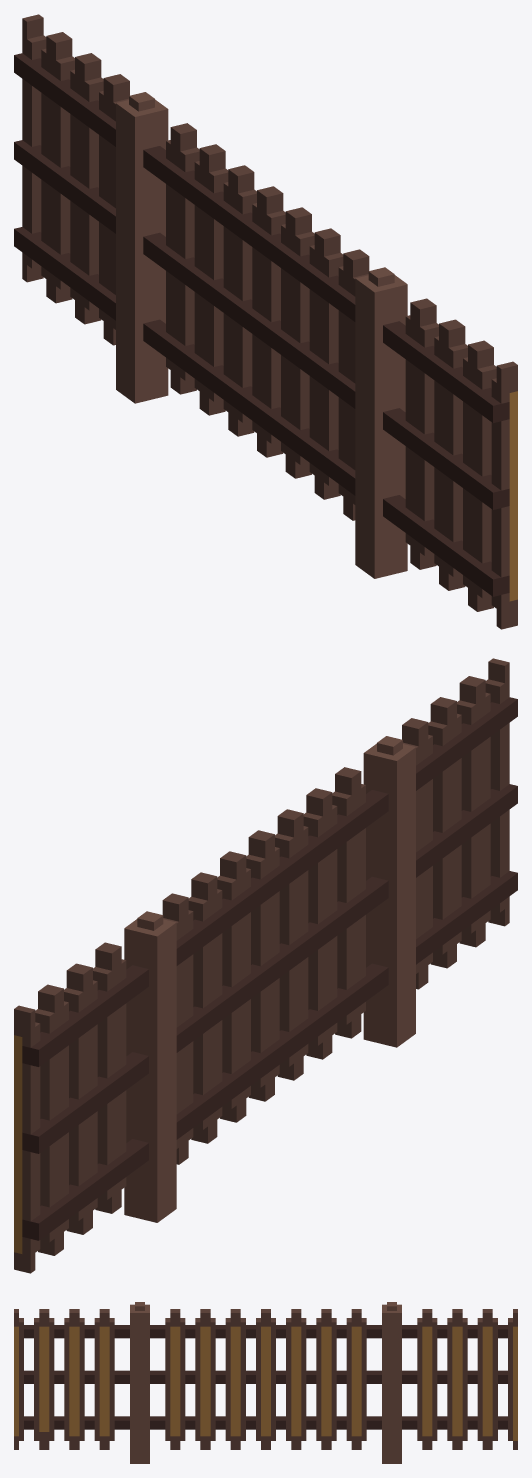
File: Fences-7-Fence.obj
The picture shows the model from 3 angles, top to bottom: view 1: azimuth 30°, elevation 25°; view 2: azimuth 150°, elevation 25°; view 3: azimuth 270°, elevation 25°; orthographic projection. The views are drawn at different scales.
Visible parts, largest first — view 1: Fence; view 2: Fence; view 3: Fence.
Boxes of the visible parts, x1,y1,x2,y2 form: Fence: (14,14,517,629); Fence: (14,658,517,1273); Fence: (14,1302,517,1463).
Bounding box in the file's own units: 0.4 × 3.4 × 10.
1 material, 1 textured.
